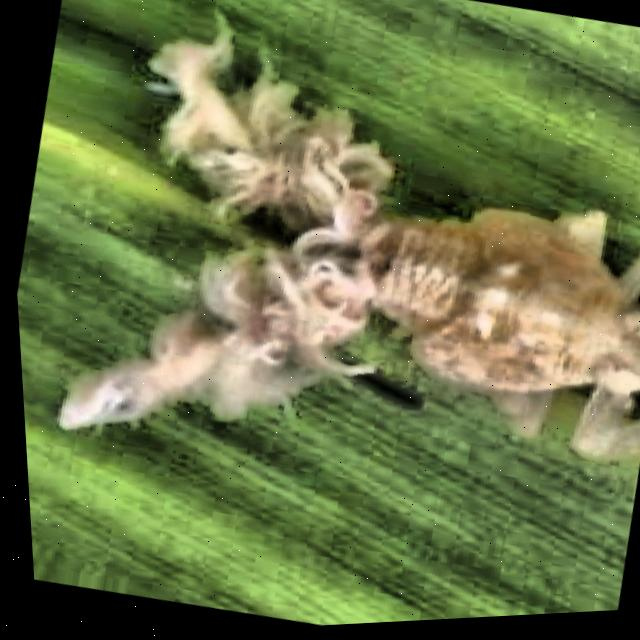Pyrilla-perpusilla: (42, 0, 640, 542)
